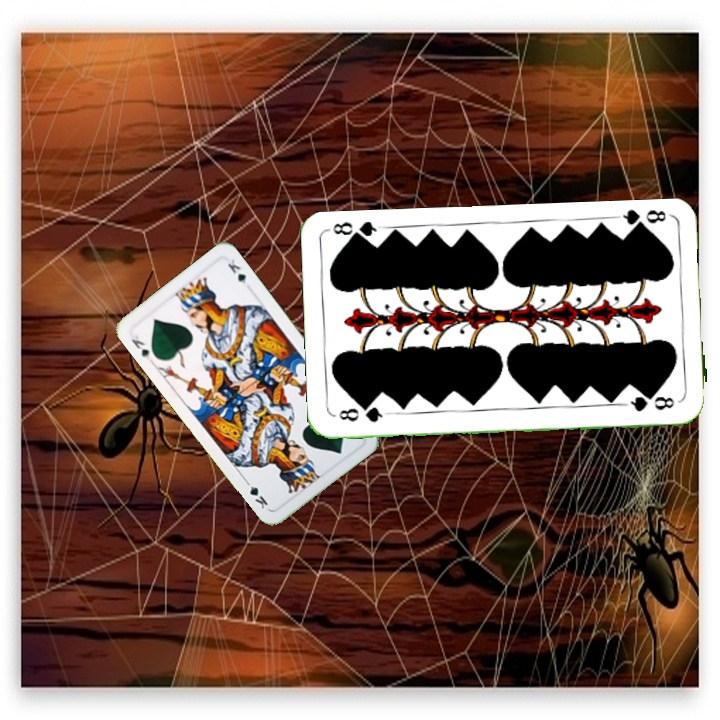G8: (615, 206, 674, 234), (335, 402, 391, 425)
GK: (127, 331, 153, 362)
